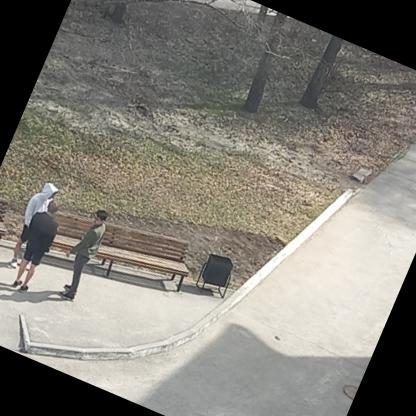Human Body: (48, 202, 112, 300), (5, 200, 66, 298), (5, 178, 64, 272)
